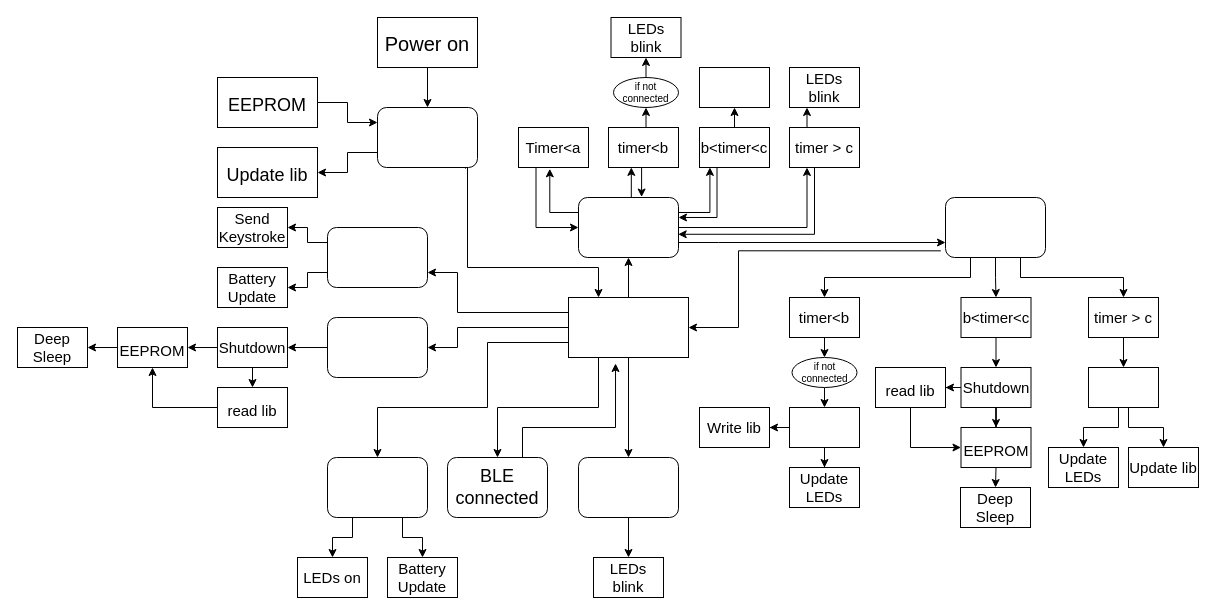
Image size: 1216x615. Some labels were removed from this diagram. The shapes that lost their labels are listed below. From the top down, each one's centre as x and y in pixels, then its label:
(x=734, y=87): LEDs off
(x=427, y=137): Initialise
(x=628, y=227): Conf pressed
(x=995, y=227): Conf Released
(x=377, y=257): Button pressed
(x=377, y=347): Sleeptimer exceeded
(x=628, y=327): Main
(x=1123, y=387): Fact Sett
(x=824, y=427): Conf++
(x=377, y=487): BLE Char updated
(x=628, y=487): BLE not connected
